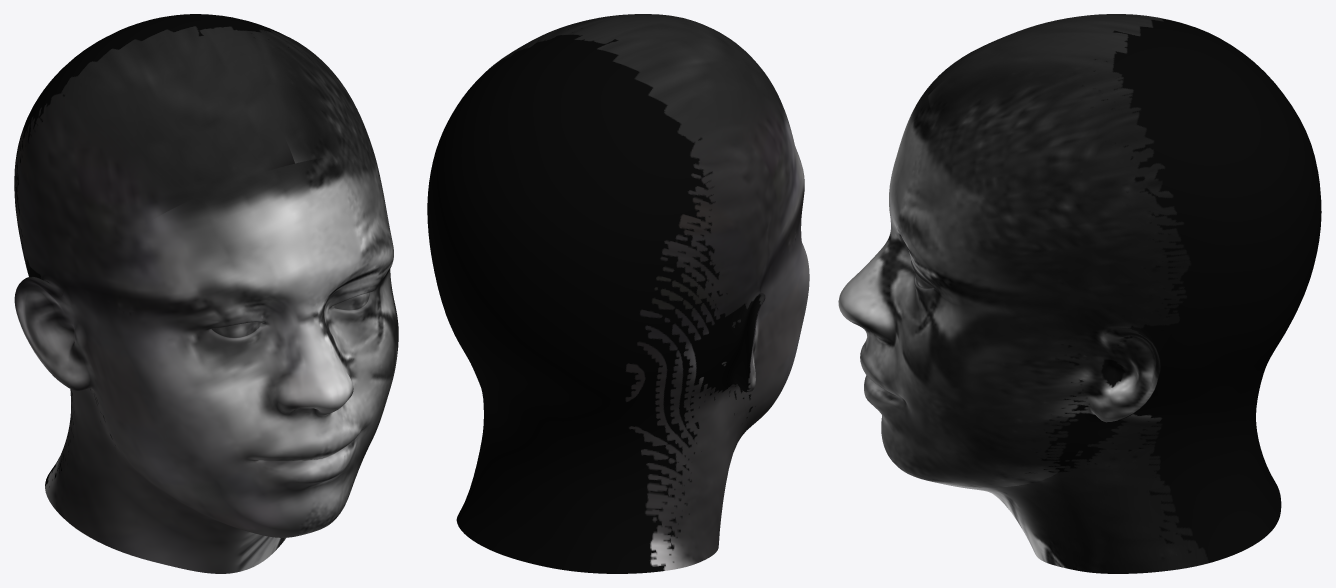
File: hancock.glb
3 views of the same model, side by side, from view 1: azimuth 30°, elevation 25°; view 2: azimuth 150°, elevation 25°; view 3: azimuth 270°, elevation 25° (orthographic).
Visible parts, largest first — view 1: FBHead.005; view 2: FBHead.005; view 3: FBHead.005.
Boxes of the visible parts, <box> form: FBHead.005: <box>14,14,398,573</box>; FBHead.005: <box>427,14,809,573</box>; FBHead.005: <box>838,14,1321,573</box>.
Size of the model in its own units: 1.61 by 2.42 by 2.05.
Materials: 1 (1 with a texture image).
